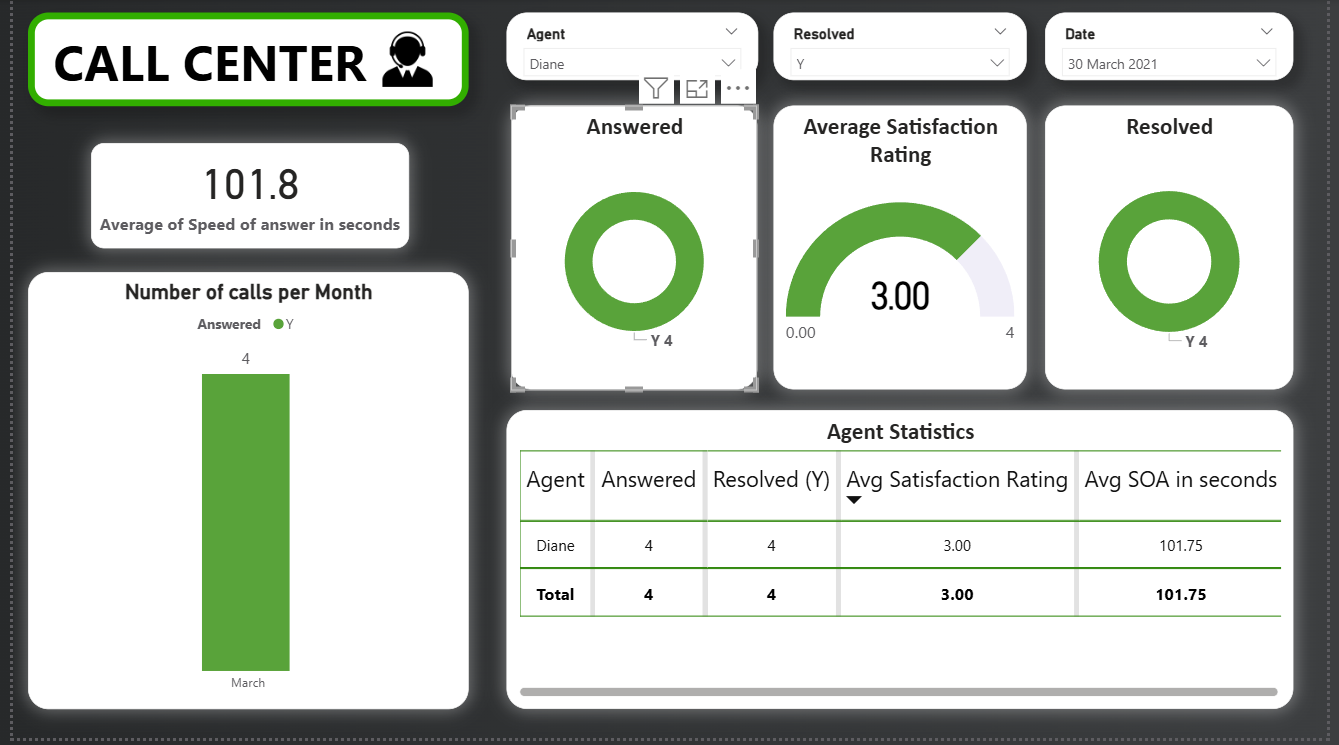

Layout of this report page (visuals, bound fields, positions):
{"tool":"powerbi","page":{"name":"Call Center","canvas":[1280,720],"ordinal":0},"visuals":[{"type":"slicer","fields":{"Values":["Sheet1.Agent"]},"box":[480.4,13.3,245.2,66.3],"z":0},{"type":"slicer","fields":{"Values":["Sheet1.Resolved"]},"box":[740.4,13.3,246.8,66.3],"z":1000},{"type":"slicer","fields":{"Values":["Sheet1.Date"]},"box":[1005.5,13.3,241.8,66.3],"z":2000},{"type":"gauge","title":"Average  Satisfaction Rating ","fields":{"Y":["Sheet1.Satisfaction rating"],"MaxValue":["Sheet1.Satisfaction rating"]},"box":[740.4,104.4,246.8,276.6],"z":3000},{"type":"donutChart","title":"Answered ","fields":{"Category":["Sheet1.Answered (Y/N)"],"Y":["Sheet1.Answered (Y/N)"]},"box":[485.3,104.4,240.2,276.6],"z":4000},{"type":"donutChart","title":" Resolved ","fields":{"Category":["Sheet1.Resolved"],"Series":["Sheet1.Resolved"],"Y":["Sheet1.Resolved"]},"box":[1005.5,104.4,241.8,276.6],"z":5000},{"type":"card","fields":{"Values":["Sheet1.Speed of answer in seconds"]},"box":[76.2,140.8,309.8,102.7],"z":6000},{"type":"columnChart","title":"Number of calls per Month","fields":{"Category":["Sheet1.Date.Variation.Date Hierarchy.Month"],"Y":["Sheet1.Answered (Y/N)"],"Series":["Sheet1.Answered (Y/N)"]},"box":[14.9,266.7,429,425.7],"z":7000},{"type":"tableEx","title":"Agent Statistics","fields":{"Values":["Sheet1.Agent","Sheet1.Answered","Sheet1.Resolved (Y)","Sheet1.Satisfaction rating","Sheet1.Speed of answer in seconds"]},"box":[480.4,400.9,767,291.5],"z":8000},{"type":"textbox","box":[14.9,13.3,429,91.1],"z":9000},{"type":"image","box":[351.2,26.5,67.9,64.6],"z":10000}]}

Visuals, with their boxes in screenshot pixels (x1, y1, x2, y2), scaled from the page's 1280x720 canvas onto the 1339x745 screenshot:
slicer - Sheet1.Agent: {"left": 503, "top": 14, "right": 759, "bottom": 82}
slicer - Sheet1.Resolved: {"left": 775, "top": 14, "right": 1033, "bottom": 82}
slicer - Sheet1.Date: {"left": 1052, "top": 14, "right": 1305, "bottom": 82}
"Average  Satisfaction Rating " gauge: {"left": 775, "top": 108, "right": 1033, "bottom": 394}
"Answered " donutChart: {"left": 508, "top": 108, "right": 759, "bottom": 394}
" Resolved " donutChart: {"left": 1052, "top": 108, "right": 1305, "bottom": 394}
card - Sheet1.Speed of answer in seconds: {"left": 80, "top": 146, "right": 404, "bottom": 252}
"Number of calls per Month" columnChart: {"left": 16, "top": 276, "right": 464, "bottom": 716}
"Agent Statistics" tableEx: {"left": 503, "top": 415, "right": 1305, "bottom": 716}
textbox: {"left": 16, "top": 14, "right": 464, "bottom": 108}
image: {"left": 367, "top": 27, "right": 438, "bottom": 94}
